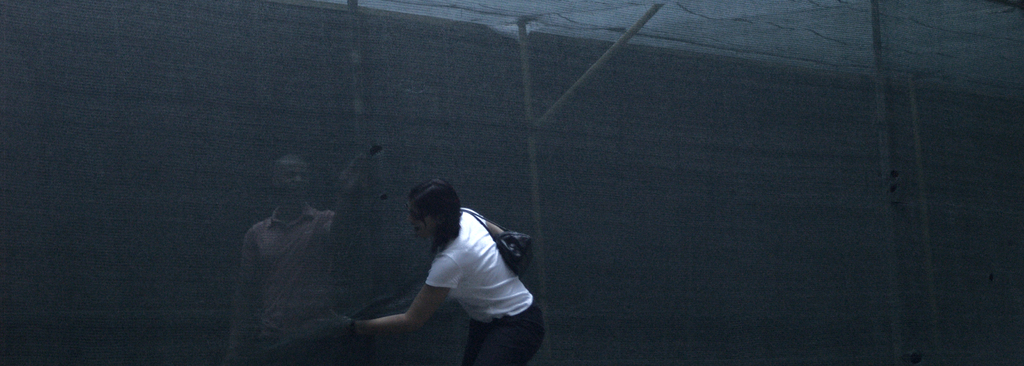Human_hand: (337, 155, 369, 203), (316, 305, 355, 342)
